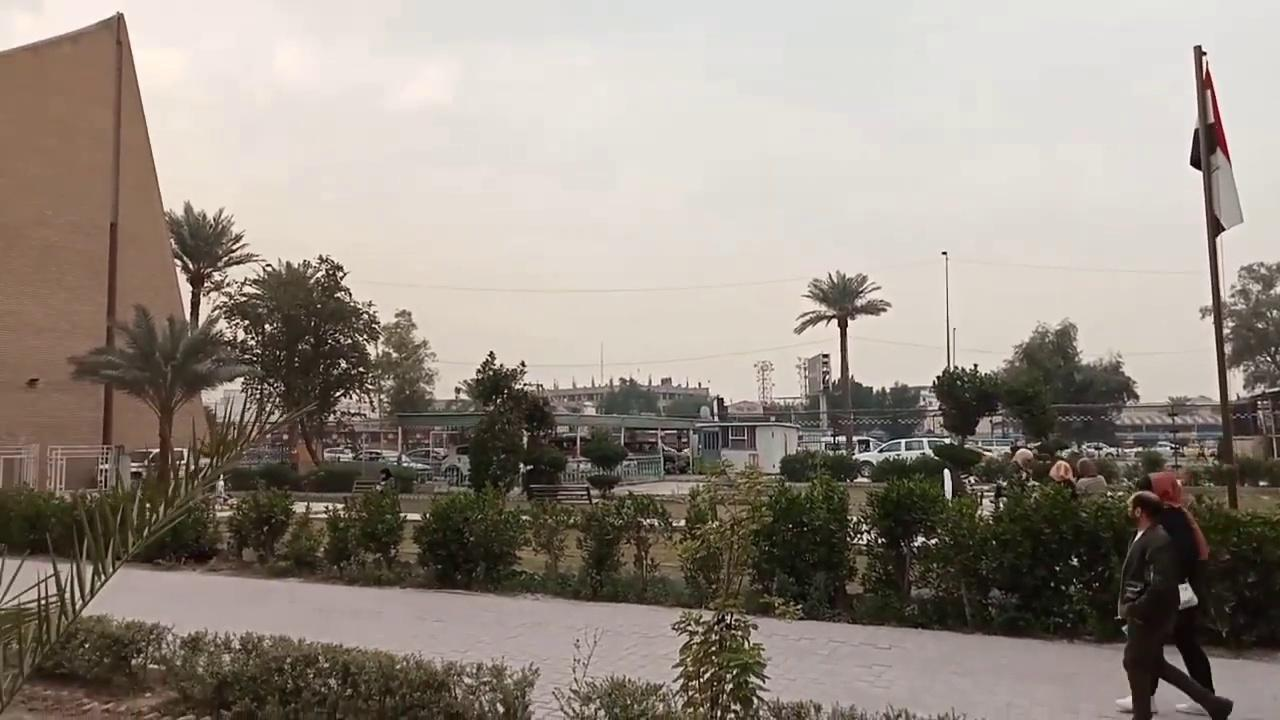car: (851, 436, 955, 479), (128, 447, 210, 480), (622, 440, 689, 473)
person: (1115, 490, 1233, 718), (1073, 457, 1107, 499), (1047, 458, 1075, 494), (375, 467, 396, 494), (214, 473, 228, 505)
tree: (66, 302, 256, 509), (216, 252, 382, 468), (668, 474, 774, 718), (995, 316, 1139, 446), (793, 268, 891, 451), (744, 471, 856, 616), (455, 349, 562, 497), (161, 198, 260, 331), (411, 486, 531, 591), (857, 470, 949, 601), (669, 607, 771, 718), (1198, 259, 1279, 393), (320, 484, 406, 580), (370, 307, 438, 416), (1073, 349, 1139, 444), (571, 495, 631, 598), (225, 478, 295, 563), (930, 362, 999, 445), (618, 491, 672, 595), (526, 497, 575, 585), (578, 426, 629, 496), (930, 440, 983, 499), (521, 442, 567, 498), (752, 358, 774, 404)
